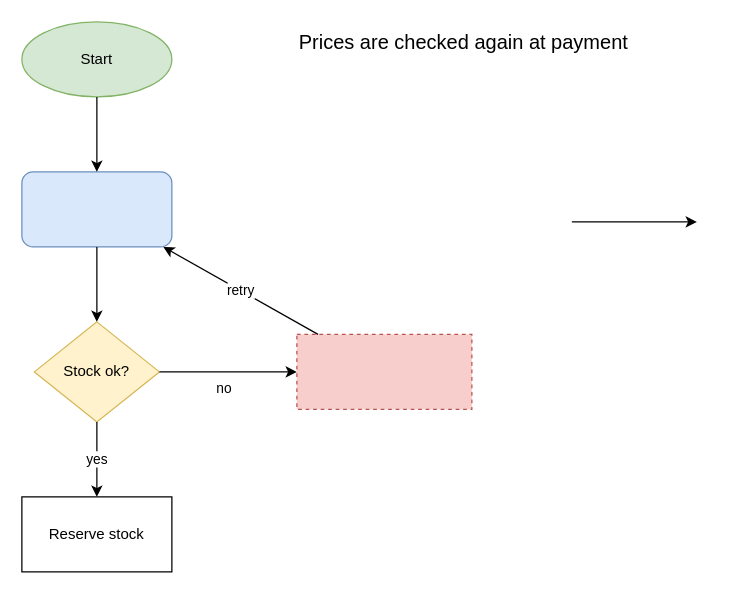
This 729x594 diagram has some shape labels left out. The shapes that lost their labels are listed below. From the top down, each one's box as (x1, y1, x2, y2) in pixels, then its label:
(21, 171, 172, 247): Load cart from & session
(296, 333, 472, 409): Show out of stock
